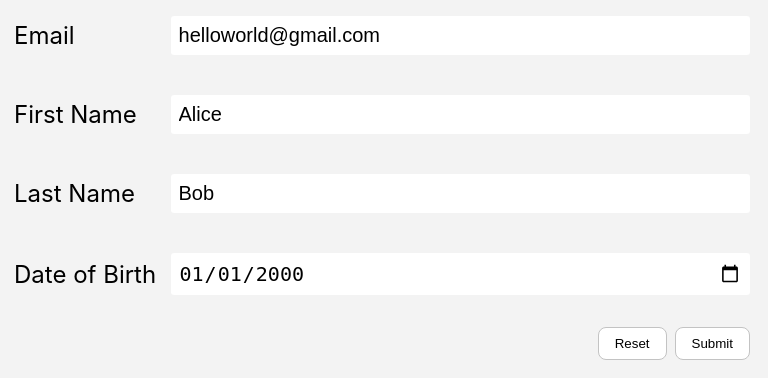
Test: Should reset the form when Reset button is clicked
The image size is (768, 378).
Type "111" into the field labelled "First Name" at (460, 114), box [170,95,750,134]
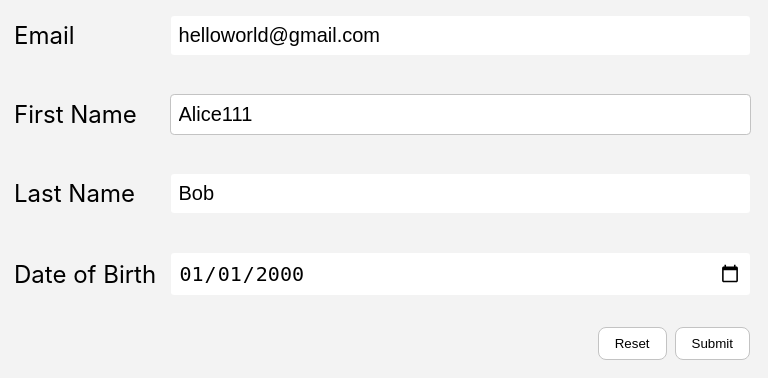
Click the button "Reset" at (632, 344), box [598,327,666,360]
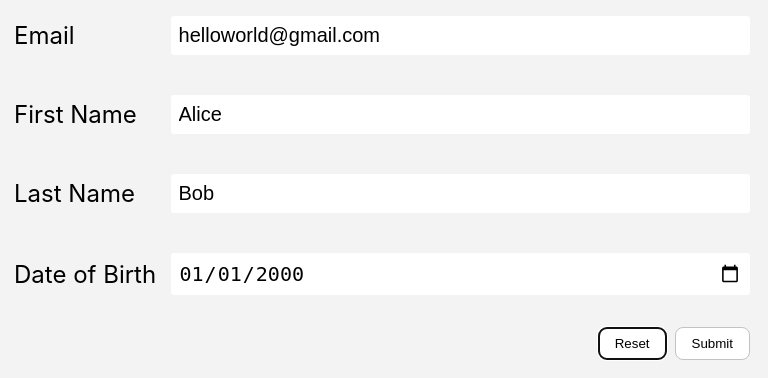
Expected: the field labelled "First Name" holds "Alice", [170,95,750,134]
